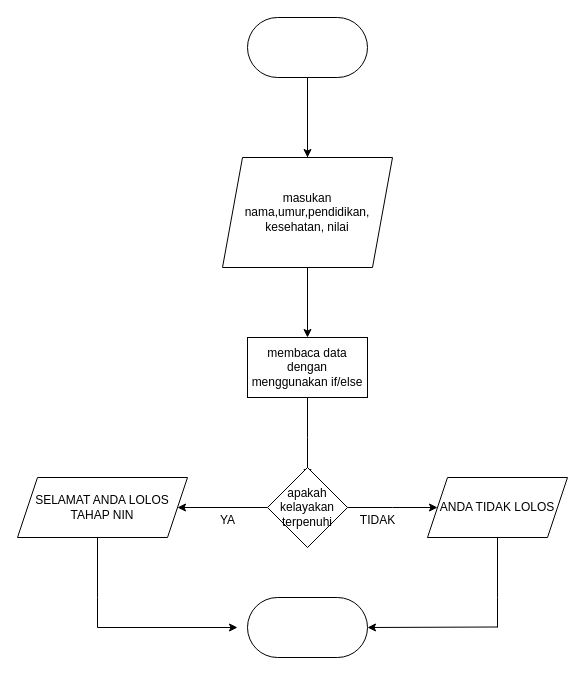
Some shapes in this 585 by 675 pixel diagram are drawn without their labels. The shapes that lost their labels are listed below. From the top down, each one's box as (x1, y1, x2, y2) in pixels, then its label:
(246, 16, 368, 78): mulai
(246, 596, 368, 658): Selesai
